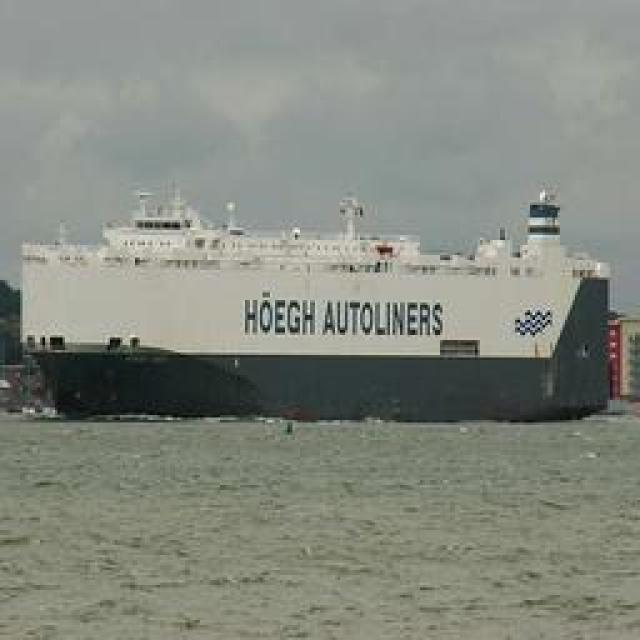CIV_Ship: (44, 172, 616, 418)
